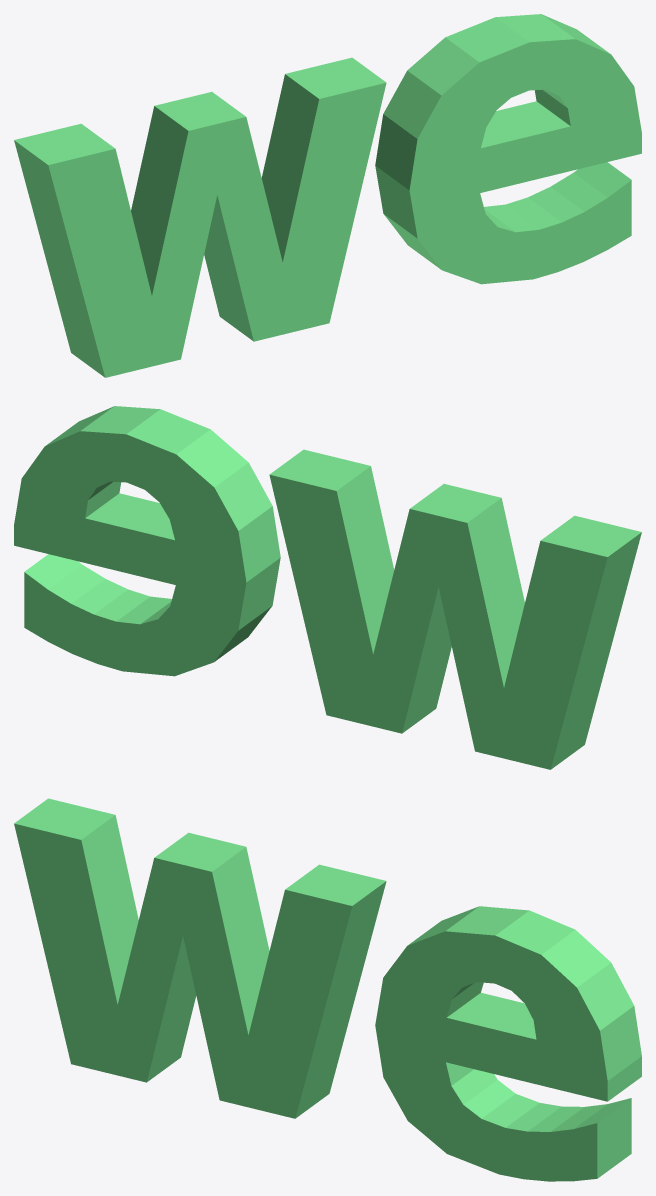
Rendered from suku_kecil_we.glb.
3 renders of one model, top to bottom at view 1: azimuth 30°, elevation 25°; view 2: azimuth 150°, elevation 25°; view 3: azimuth 330°, elevation 25°, orthographic.
Parts seen in each view (by area): view 1: geometry_0; view 2: geometry_0; view 3: geometry_0.
Boxes of the visible parts, x1,y1,x2,y2 form: geometry_0: (14, 14, 641, 377); geometry_0: (14, 406, 641, 769); geometry_0: (14, 798, 641, 1181).
Size of the model in its own units: 14.99 by 5.74 by 1.5.
